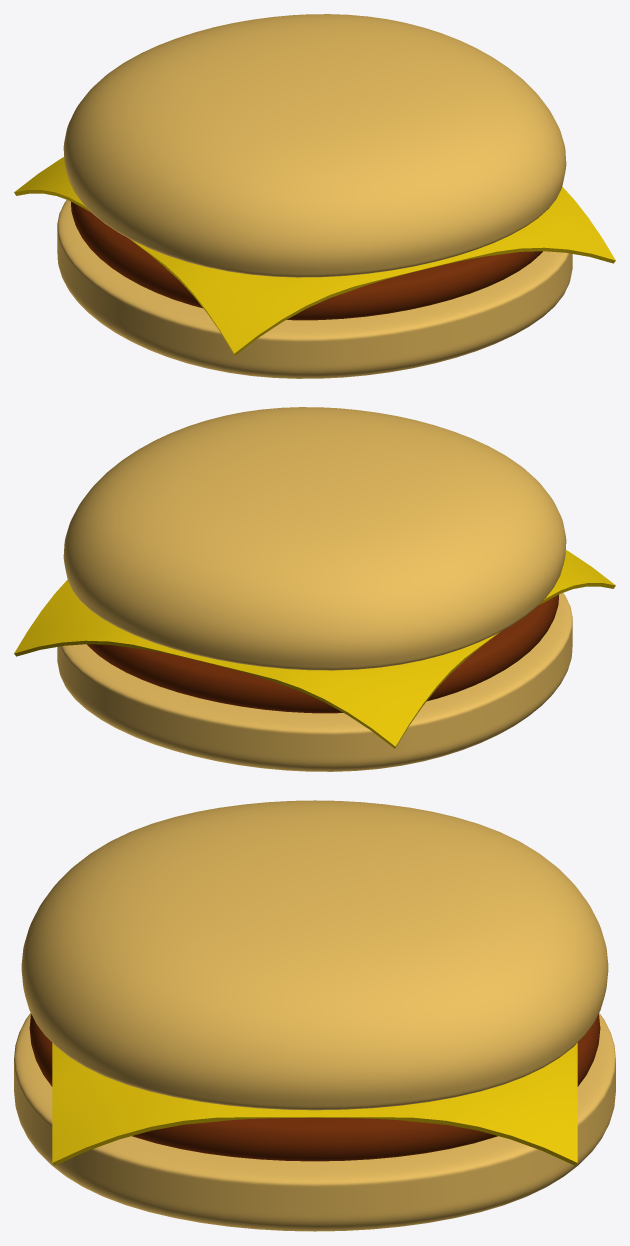
The model's file is hamburger.glb.
The picture shows the model from 3 angles, top to bottom: view 1: azimuth 30°, elevation 25°; view 2: azimuth 150°, elevation 25°; view 3: azimuth 270°, elevation 25°; orthographic projection. The views are drawn at different scales.
Visible parts, largest first — view 1: Cube.002, Cube, Plane, Cube.003; view 2: Cube.002, Cube, Plane, Cube.003; view 3: Cube.002, Cube, Plane, Cube.003.
Part boxes in pixels (<box>): Cube.002: <box>63,14,566,277</box>; Cube: <box>57,200,572,378</box>; Plane: <box>14,157,615,355</box>; Cube.003: <box>71,201,542,320</box>; Cube.002: <box>63,407,566,670</box>; Cube: <box>57,593,572,771</box>; Plane: <box>14,550,615,748</box>; Cube.003: <box>87,594,558,713</box>; Cube.002: <box>21,800,608,1110</box>; Cube: <box>14,1013,615,1231</box>; Plane: <box>52,1043,577,1165</box>; Cube.003: <box>29,1014,600,1161</box>.
Size of the model in its own units: 9.17 by 4.43 by 9.17.
